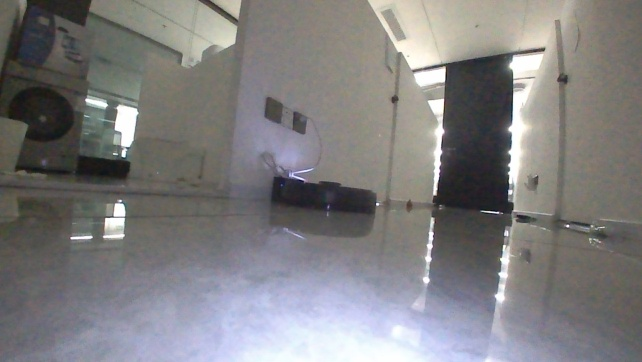door_anno: (548, 5, 607, 228), (374, 20, 404, 203)
pet_feces: (401, 194, 414, 208)
socks: (2, 166, 50, 180)
toilet: (124, 132, 209, 185)
trash_can: (1, 110, 31, 179)
washing_machine: (0, 53, 92, 178)
wire: (257, 115, 324, 180)
